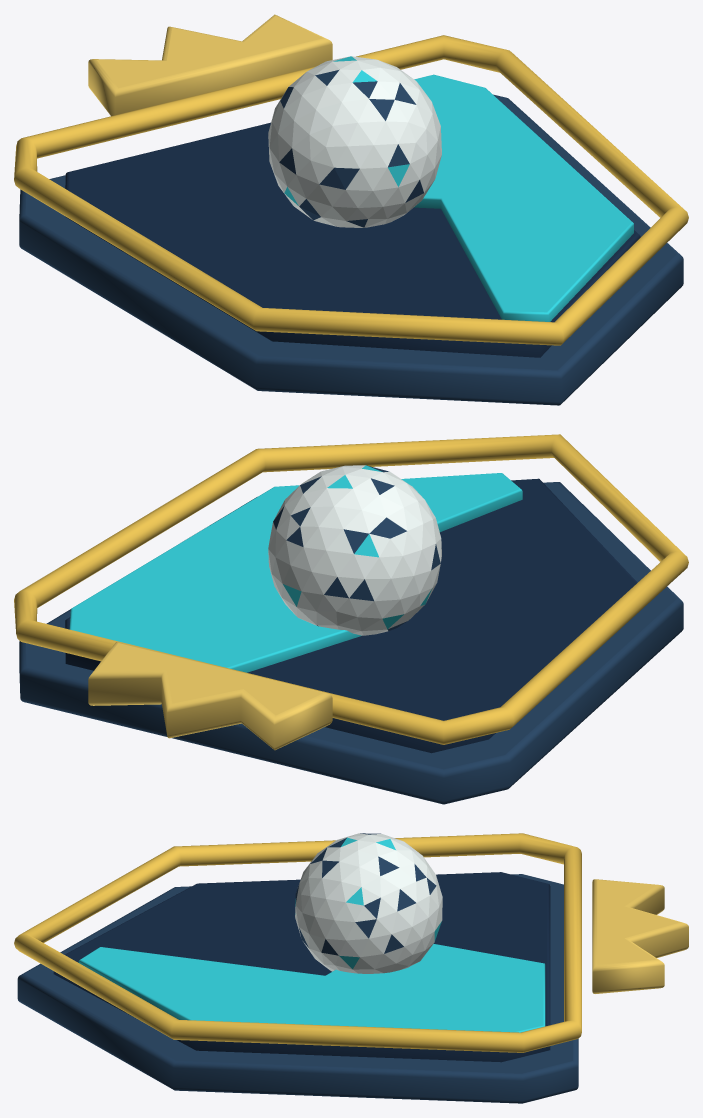
The model's file is team-shield-premium-kit.glb.
The picture shows the model from 3 angles, top to bottom: view 1: azimuth 30°, elevation 25°; view 2: azimuth 150°, elevation 25°; view 3: azimuth 270°, elevation 25°; orthographic projection. The views are drawn at different scales.
Visible parts, largest first — view 1: PremiumShieldInner, PremiumShieldBacking, PremiumFrame, PremiumIQAccent, PremiumBallCore, PremiumCrown; view 2: PremiumShieldInner, PremiumShieldBacking, PremiumFrame, PremiumIQAccent, PremiumBallCore, PremiumCrown; view 3: PremiumShieldBacking, PremiumIQAccent, PremiumShieldInner, PremiumFrame, PremiumBallCore, PremiumCrown.
Boxes of the visible parts, x1,y1,x2,y2 form: PremiumShieldInner: (65,122,640,357); PremiumShieldBacking: (19,94,683,405); PremiumFrame: (14,35,688,345); PremiumIQAccent: (414,74,633,321); PremiumBallCore: (268,56,441,227); PremiumCrown: (88,14,332,116); PremiumShieldInner: (65,478,637,753); PremiumShieldBacking: (19,482,683,804); PremiumFrame: (14,434,688,744); PremiumIQAccent: (69,473,522,672); PremiumBallCore: (268,465,441,635); PremiumCrown: (88,642,332,750); PremiumShieldBacking: (17,874,578,1103); PremiumIQAccent: (78,944,545,1032); PremiumShieldInner: (53,872,550,1062); PremiumFrame: (14,833,581,1052); PremiumBallCore: (295,833,442,973); PremiumCrown: (592,879,688,993).
Bounding box in the file's own units: 5.46 × 2 × 7.5.
